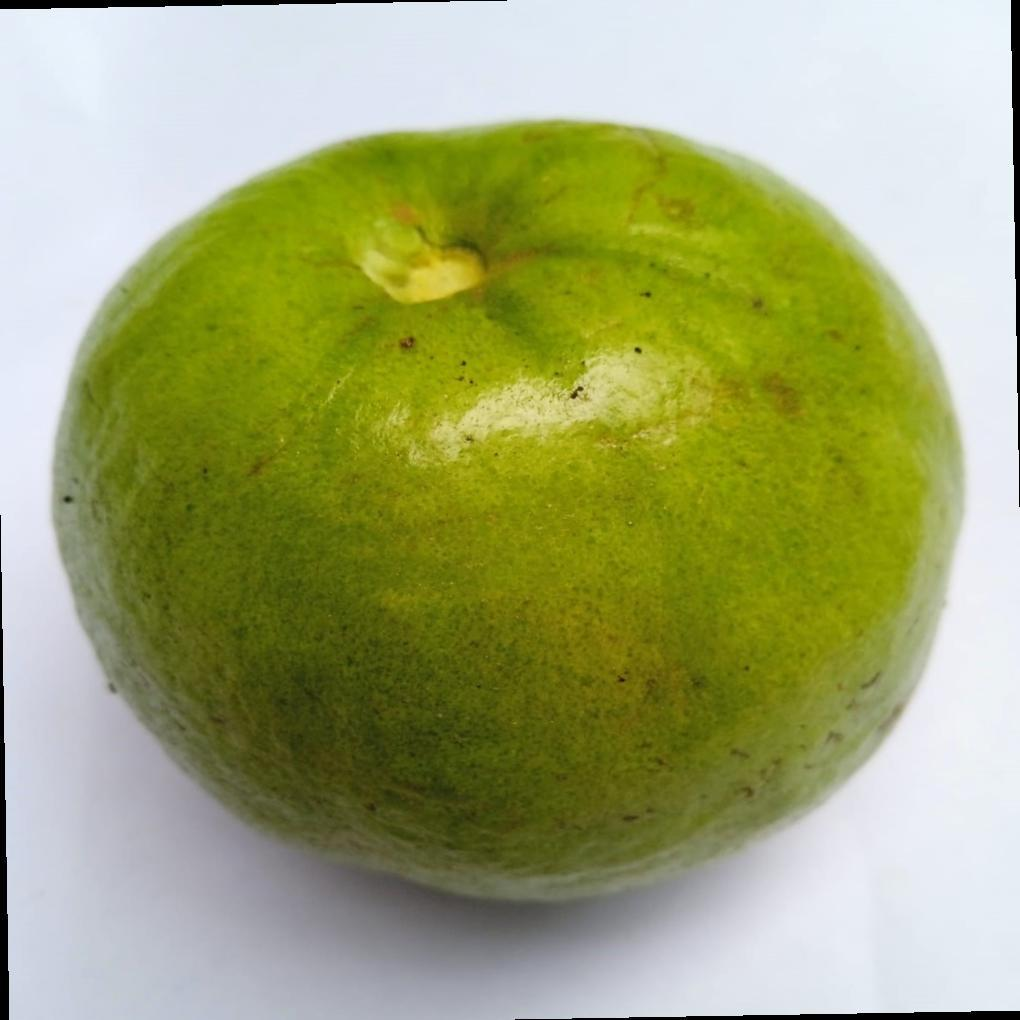FreshGuava: (47, 120, 966, 909)
